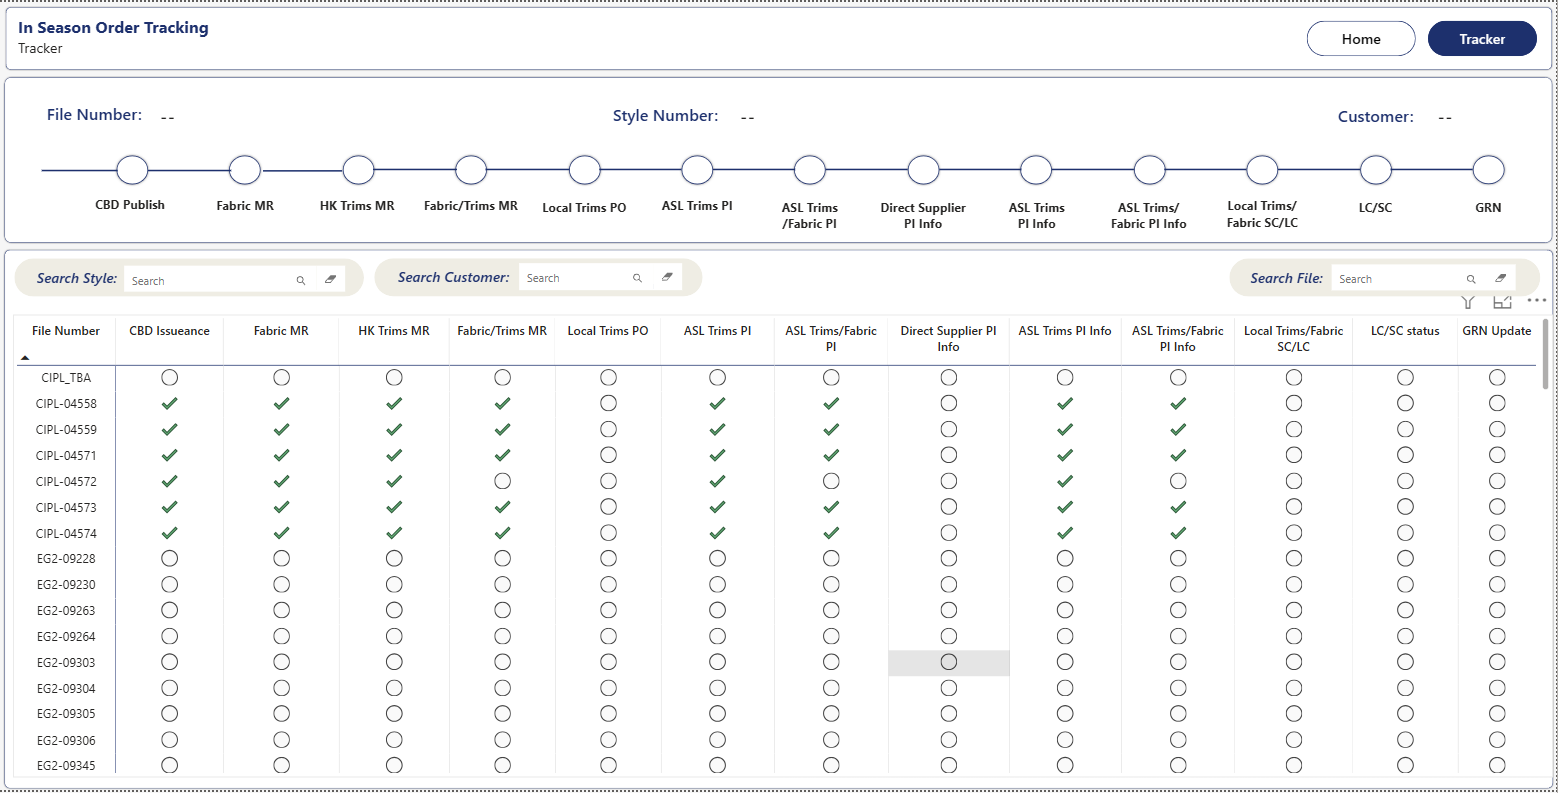

This screenshot's page, from the dashboard's own definition file:
{"tool":"powerbi","page":{"name":"Tracker","canvas":[2048,1035],"ordinal":2},"visuals":[{"type":"textbox","box":[1755.7,128.8,155.6,42.3],"z":0,"group":"g4"},{"type":"shape","box":[152.8,198.8,47.5,43.9],"z":0,"group":"g7"},{"type":"textbox","box":[109.1,250,130.2,40.9],"z":0,"group":"g8"},{"type":"shape","box":[6,323.4,2038.9,711.9],"z":0},{"type":"shape","box":[6.8,96.3,2037.9,221.4],"z":1000},{"type":"cardVisual","fields":{"Data":["Others_Measures_Table.Selected Customer"]},"box":[1873.9,115.9,157.1,62.5],"z":1000,"group":"g4"},{"type":"shape","box":[301.3,198.8,47.5,43.9],"z":1000,"group":"g7"},{"type":"textbox","box":[274.6,250.9,101,36.6],"z":1000,"group":"g8"},{"type":"shape","box":[7.6,4.5,2035.9,86.1],"z":2000},{"type":"shape","box":[449.9,198.8,47.5,43.9],"z":2000,"group":"g7"},{"type":"textbox","box":[410.6,250.9,126.8,34.9],"z":2000,"group":"g8"},{"type":"textbox","box":[20.9,14,282.6,68],"z":3000},{"type":"group","id":"g1","title":"Group 3","box":[57.7,198.8,1925.1,43.9],"z":3000,"group":"g3"},{"type":"shape","box":[598.4,198.8,47.5,43.9],"z":3000,"group":"g7"},{"type":"textbox","box":[539.2,250.9,165.4,36.6],"z":3000,"group":"g8"},{"type":"shape","box":[746.9,198.8,47.5,43.9],"z":4000,"group":"g7"},{"type":"group","id":"g2","title":"Group 3","box":[109.1,250,1883.2,58.3],"z":4000,"group":"g3"},{"type":"textbox","box":[705.5,252.6,131.7,34.1],"z":4000,"group":"g8"},{"type":"pivotTable","fields":{"Rows":["Complete/InProgress_Table.File Number"],"Columns":["Complete/InProgress_Table.Stages"],"Values":["Min(Complete/InProgress_Table.Complete/InProgress)"]},"box":[19.6,411.1,2023.8,607.6],"z":4000},{"type":"group","id":"g3","title":"Group 4","box":[57.7,198.8,1934.6,109.5],"z":5000},{"type":"shape","box":[895.4,198.8,47.5,43.9],"z":5000,"group":"g7"},{"type":"textbox","box":[861.1,251.5,116.1,35.2],"z":5000,"group":"g8"},{"type":"group","id":"g4","title":"Group 5","box":[1755.7,115.9,275.4,62.5],"z":6000},{"type":"shape","box":[1043.9,198.8,47.5,43.9],"z":6000,"group":"g7"},{"type":"textbox","box":[1150.8,252.6,131.7,55.7],"z":6000,"group":"g8"},{"type":"group","id":"g5","title":"Group 7","box":[803.7,115.3,677.2,63.3],"z":7000},{"type":"shape","box":[1192.5,198.8,47.5,43.9],"z":7000,"group":"g7"},{"type":"textbox","box":[1014.3,252.6,106.5,55.7],"z":7000,"group":"g8"},{"type":"group","id":"g6","title":"Group 8","box":[59.6,115.4,290.1,63.4],"z":8000},{"type":"cardVisual","fields":{"Data":["Others_Measures_Table.Selected File"]},"box":[196,115.4,153.7,63.4],"z":8000,"group":"g6"},{"type":"shape","box":[1341,198.8,47.5,43.9],"z":8000,"group":"g7"},{"type":"textbox","box":[1320.8,252.6,88.6,53.4],"z":8000,"group":"g8"},{"type":"group","id":"g7","title":"Group 1","box":[57.7,198.8,1925.1,43.9],"z":8022,"group":"g1"},{"type":"group","id":"g8","title":"Group 2","box":[109.1,250,1883.2,58.3],"z":8036,"group":"g2"},{"type":"textbox","box":[59.6,126.9,155.6,42.3],"z":9000,"group":"g6"},{"type":"shape","box":[1489.5,198.8,47.5,43.9],"z":9000,"group":"g7"},{"type":"textbox","box":[1450,252.6,126.9,55.7],"z":9000,"group":"g8"},{"type":"group","id":"g9","title":"Group 9","box":[1618.7,337,408.9,50.7],"z":9000},{"type":"textbox","box":[803.7,128.7,155.6,42.3],"z":10000,"group":"g5"},{"type":"shape","box":[1638,198.8,47.5,43.9],"z":10000,"group":"g7"},{"type":"textbox","box":[1602.1,251.5,119.7,55.7],"z":10000,"group":"g8"},{"type":"group","id":"g10","title":"Group 10","box":[21.2,337,459.6,50.7],"z":10000},{"type":"actionButton","box":[1879.1,24.2,143.3,46.5],"z":11000},{"type":"cardVisual","fields":{"Data":["Others_Measures_Table.Selected Style"]},"box":[957.4,115.3,522.6,63.4],"z":11000,"group":"g5"},{"type":"shape","box":[1786.6,198.8,47.5,43.9],"z":11000,"group":"g7"},{"type":"textbox","box":[1773.2,252.6,75.4,35.2],"z":11000,"group":"g8"},{"type":"group","id":"g11","title":"Group 9","box":[21.2,337,459.6,50.7],"z":11000,"group":"g10"},{"type":"shape","box":[21.2,337,459.6,50.7],"z":11000,"group":"g11"},{"type":"shape","box":[1618.7,337,408.9,50.7],"z":11000,"group":"g9"},{"type":"group","id":"g12","title":"Group 9","box":[494.8,337.2,431.6,50.2],"z":11000,"group":"g13"},{"type":"shape","box":[494.8,337.2,431.6,50.2],"z":11000,"group":"g12"},{"type":"actionButton","box":[1719.1,24.2,143.3,46.5],"z":12000},{"type":"shape","box":[1935.1,198.9,47.8,43.6],"z":12000,"group":"g7"},{"type":"textbox","box":[1925.2,252.6,67,35.2],"z":12000,"group":"g8"},{"type":"textFilter25A4896A83E0487089E2B90C9AE57C8A","fields":{"field":["Complete/InProgress_Table.Customer"]},"box":[681.1,338.7,223.3,44.7],"z":12000,"group":"g13"},{"type":"textFilter25A4896A83E0487089E2B90C9AE57C8A","fields":{"field":["Complete/InProgress_Table.File Number"]},"box":[1748.8,340.4,251.8,43.9],"z":12000,"group":"g9"},{"type":"textFilter25A4896A83E0487089E2B90C9AE57C8A","fields":{"field":["Complete/InProgress_Table.Style"]},"box":[161.5,341.2,300.8,43.9],"z":12000,"group":"g10"},{"type":"textbox","box":[521.5,343.8,165.6,40.9],"z":12500,"group":"g12"},{"type":"textbox","box":[46.7,344.5,155.7,40.8],"z":12500,"group":"g11"},{"type":"textbox","box":[1641.8,344.5,154.2,34.8],"z":12500,"group":"g9"},{"type":"shape","box":[57.7,211.4,99.8,19.1],"z":13000,"group":"g7"},{"type":"group","id":"g13","title":"Group 10","box":[494.8,337.2,431.6,50.2],"z":13000},{"type":"shape","box":[196.6,211.4,109.4,19.1],"z":14000,"group":"g7"},{"type":"shape","box":[349,211.2,104.3,20],"z":15000,"group":"g7"},{"type":"shape","box":[493.1,210.9,110.4,19.6],"z":16000,"group":"g7"},{"type":"shape","box":[640.7,210.9,110.4,19.6],"z":17000,"group":"g7"},{"type":"shape","box":[790.9,210.9,108.4,19.6],"z":18000,"group":"g7"},{"type":"shape","box":[939.1,210.9,108.4,19.6],"z":19000,"group":"g7"},{"type":"shape","box":[1087.8,210.9,108.4,19.6],"z":20000,"group":"g7"},{"type":"shape","box":[1236.5,210.9,108.4,19.6],"z":21000,"group":"g7"},{"type":"shape","box":[1384.6,210.9,108.4,19.6],"z":22000,"group":"g7"},{"type":"shape","box":[1533.3,210.9,108.4,19.6],"z":23000,"group":"g7"},{"type":"shape","box":[1682,210.9,108.4,19.6],"z":24000,"group":"g7"},{"type":"shape","box":[1830.2,210.9,108.4,19.6],"z":25000,"group":"g7"}]}

Visuals, with their boxes in screenshot pixels (x1, y1, x2, y2), scaled from the page's 2048x1035 canvas onto the 1559x793 screenshot:
textbox: x1=1336, y1=99, x2=1455, y2=131
shape: x1=116, y1=152, x2=152, y2=186
textbox: x1=83, y1=192, x2=182, y2=223
shape: x1=5, y1=248, x2=1557, y2=792
shape: x1=5, y1=74, x2=1556, y2=243
cardVisual - Others_Measures_Table.Selected Customer: x1=1426, y1=89, x2=1546, y2=137
shape: x1=229, y1=152, x2=266, y2=186
textbox: x1=209, y1=192, x2=286, y2=220
shape: x1=6, y1=3, x2=1556, y2=69
shape: x1=342, y1=152, x2=379, y2=186
textbox: x1=313, y1=192, x2=409, y2=219
textbox: x1=16, y1=11, x2=231, y2=63
"Group 3" group: x1=44, y1=152, x2=1509, y2=186
shape: x1=456, y1=152, x2=492, y2=186
textbox: x1=410, y1=192, x2=536, y2=220
shape: x1=569, y1=152, x2=605, y2=186
"Group 3" group: x1=83, y1=192, x2=1517, y2=236
textbox: x1=537, y1=194, x2=637, y2=220
pivotTable - Complete/InProgress_Table.File Number x Complete/InProgress_Table.Stages: x1=15, y1=315, x2=1555, y2=781
"Group 4" group: x1=44, y1=152, x2=1517, y2=236
shape: x1=682, y1=152, x2=718, y2=186
textbox: x1=655, y1=193, x2=744, y2=220
"Group 5" group: x1=1336, y1=89, x2=1546, y2=137
shape: x1=795, y1=152, x2=831, y2=186
textbox: x1=876, y1=194, x2=976, y2=236
"Group 7" group: x1=612, y1=88, x2=1127, y2=137
shape: x1=908, y1=152, x2=944, y2=186
textbox: x1=772, y1=194, x2=853, y2=236
"Group 8" group: x1=45, y1=88, x2=266, y2=137
cardVisual - Others_Measures_Table.Selected File: x1=149, y1=88, x2=266, y2=137
shape: x1=1021, y1=152, x2=1057, y2=186
textbox: x1=1005, y1=194, x2=1073, y2=234
"Group 1" group: x1=44, y1=152, x2=1509, y2=186
"Group 2" group: x1=83, y1=192, x2=1517, y2=236
textbox: x1=45, y1=97, x2=164, y2=130
shape: x1=1134, y1=152, x2=1170, y2=186
textbox: x1=1104, y1=194, x2=1200, y2=236
"Group 9" group: x1=1232, y1=258, x2=1543, y2=297
textbox: x1=612, y1=99, x2=730, y2=131
shape: x1=1247, y1=152, x2=1283, y2=186
textbox: x1=1220, y1=193, x2=1311, y2=235
"Group 10" group: x1=16, y1=258, x2=366, y2=297
actionButton: x1=1430, y1=19, x2=1540, y2=54
cardVisual - Others_Measures_Table.Selected Style: x1=729, y1=88, x2=1127, y2=137
shape: x1=1360, y1=152, x2=1396, y2=186
textbox: x1=1350, y1=194, x2=1407, y2=221
"Group 9" group: x1=16, y1=258, x2=366, y2=297
shape: x1=16, y1=258, x2=366, y2=297
shape: x1=1232, y1=258, x2=1543, y2=297
"Group 9" group: x1=377, y1=258, x2=705, y2=297
shape: x1=377, y1=258, x2=705, y2=297
actionButton: x1=1309, y1=19, x2=1418, y2=54
shape: x1=1473, y1=152, x2=1509, y2=186
textbox: x1=1466, y1=194, x2=1517, y2=221
textFilter25A4896A83E0487089E2B90C9AE57C8A - Complete/InProgress_Table.Customer: x1=518, y1=260, x2=688, y2=294
textFilter25A4896A83E0487089E2B90C9AE57C8A - Complete/InProgress_Table.File Number: x1=1331, y1=261, x2=1523, y2=294
textFilter25A4896A83E0487089E2B90C9AE57C8A - Complete/InProgress_Table.Style: x1=123, y1=261, x2=352, y2=295
textbox: x1=397, y1=263, x2=523, y2=295
textbox: x1=36, y1=264, x2=154, y2=295
textbox: x1=1250, y1=264, x2=1367, y2=291
shape: x1=44, y1=162, x2=120, y2=177
"Group 10" group: x1=377, y1=258, x2=705, y2=297
shape: x1=150, y1=162, x2=233, y2=177
shape: x1=266, y1=162, x2=345, y2=177
shape: x1=375, y1=162, x2=459, y2=177
shape: x1=488, y1=162, x2=572, y2=177
shape: x1=602, y1=162, x2=685, y2=177
shape: x1=715, y1=162, x2=797, y2=177
shape: x1=828, y1=162, x2=911, y2=177
shape: x1=941, y1=162, x2=1024, y2=177
shape: x1=1054, y1=162, x2=1137, y2=177
shape: x1=1167, y1=162, x2=1250, y2=177
shape: x1=1280, y1=162, x2=1363, y2=177
shape: x1=1393, y1=162, x2=1476, y2=177
